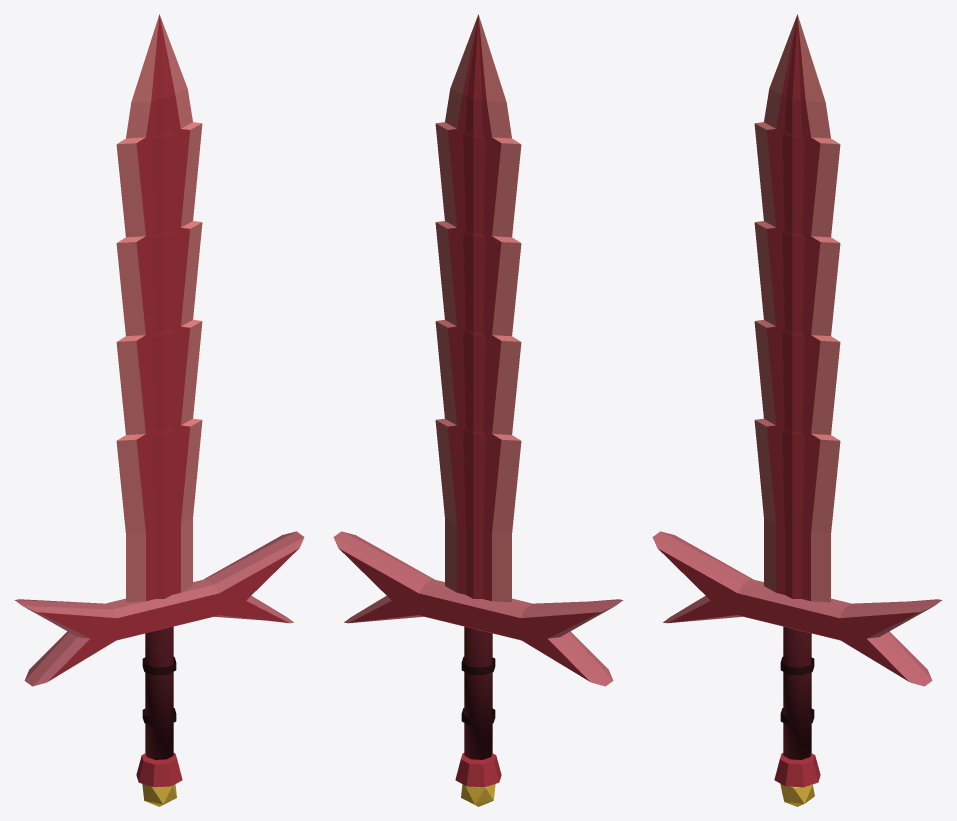
File: crimtane_broadsword.glb
3 renders of one model, left to right at view 1: azimuth 30°, elevation 25°; view 2: azimuth 150°, elevation 25°; view 3: azimuth 330°, elevation 25°, orthographic.
Visible parts, largest first — view 1: crimtane_broadsword_v0; view 2: crimtane_broadsword_v0; view 3: crimtane_broadsword_v0.
Part boxes in pixels (box(x1,y1,x2,y2)): crimtane_broadsword_v0: box(14, 14, 304, 806); crimtane_broadsword_v0: box(333, 14, 623, 806); crimtane_broadsword_v0: box(652, 14, 942, 806).
Bounding box in the file's own units: 0.462 × 1.24 × 0.068.
